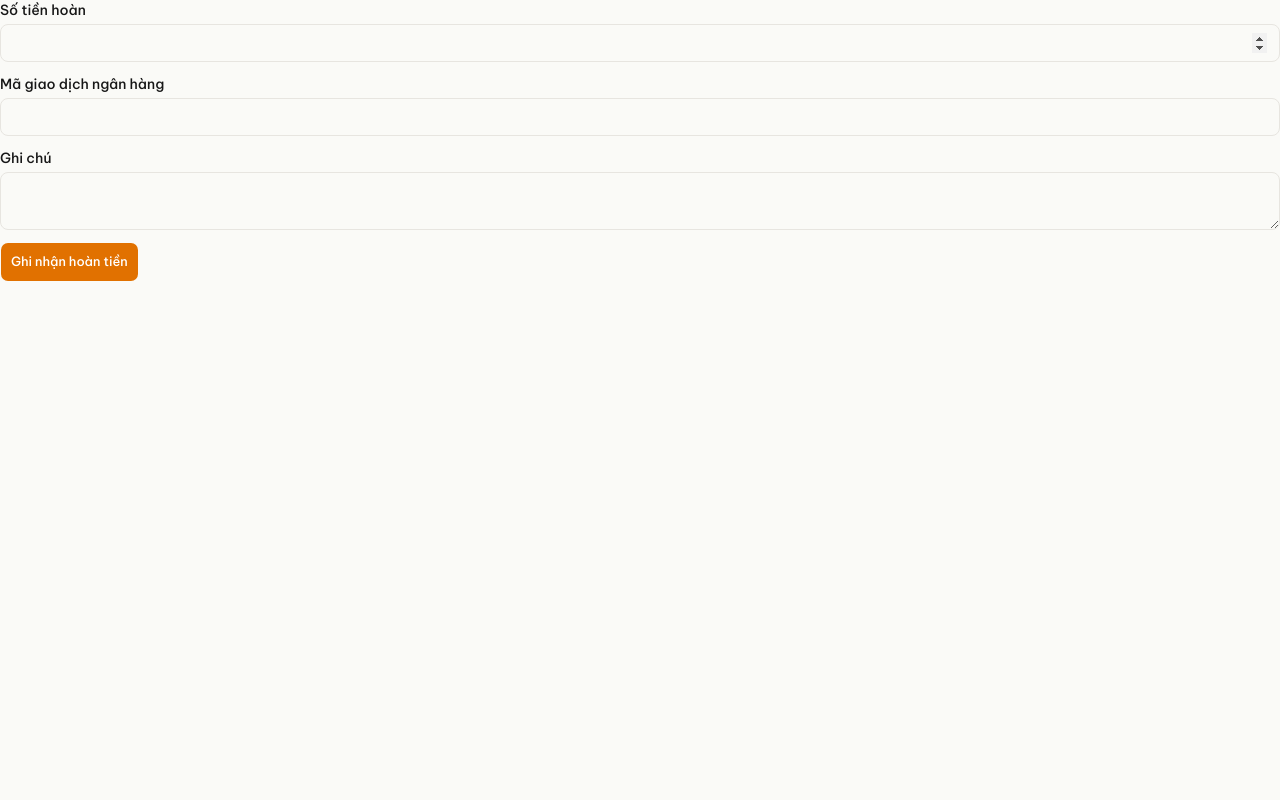
Test: RefundForm › does not expose rejected exception details
The width and height of the screenshot is (1280, 800).
Type "80000" into the number field labelled "Số tiền hoàn" at (640, 43), box [0,24,1279,62]
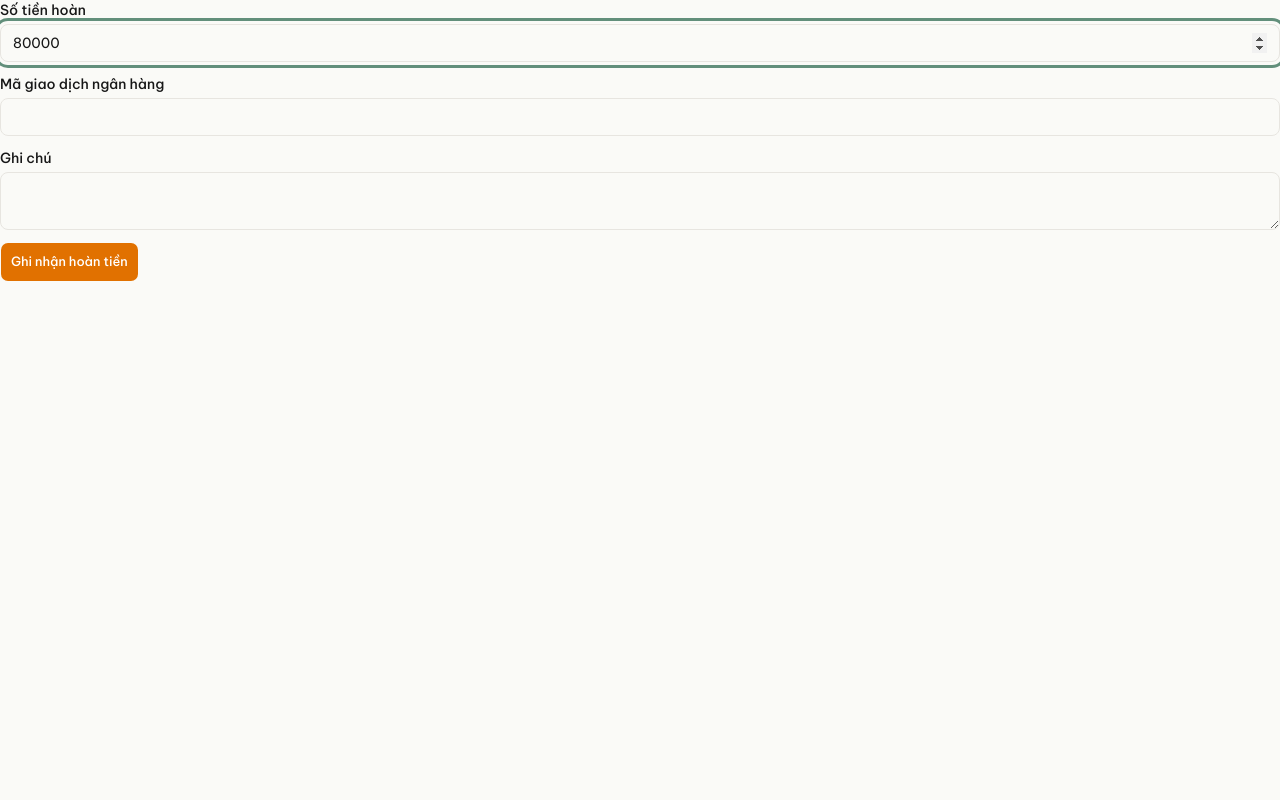
Click the button "Ghi nhận hoàn tiền" at (69, 262), box [0,242,139,282]
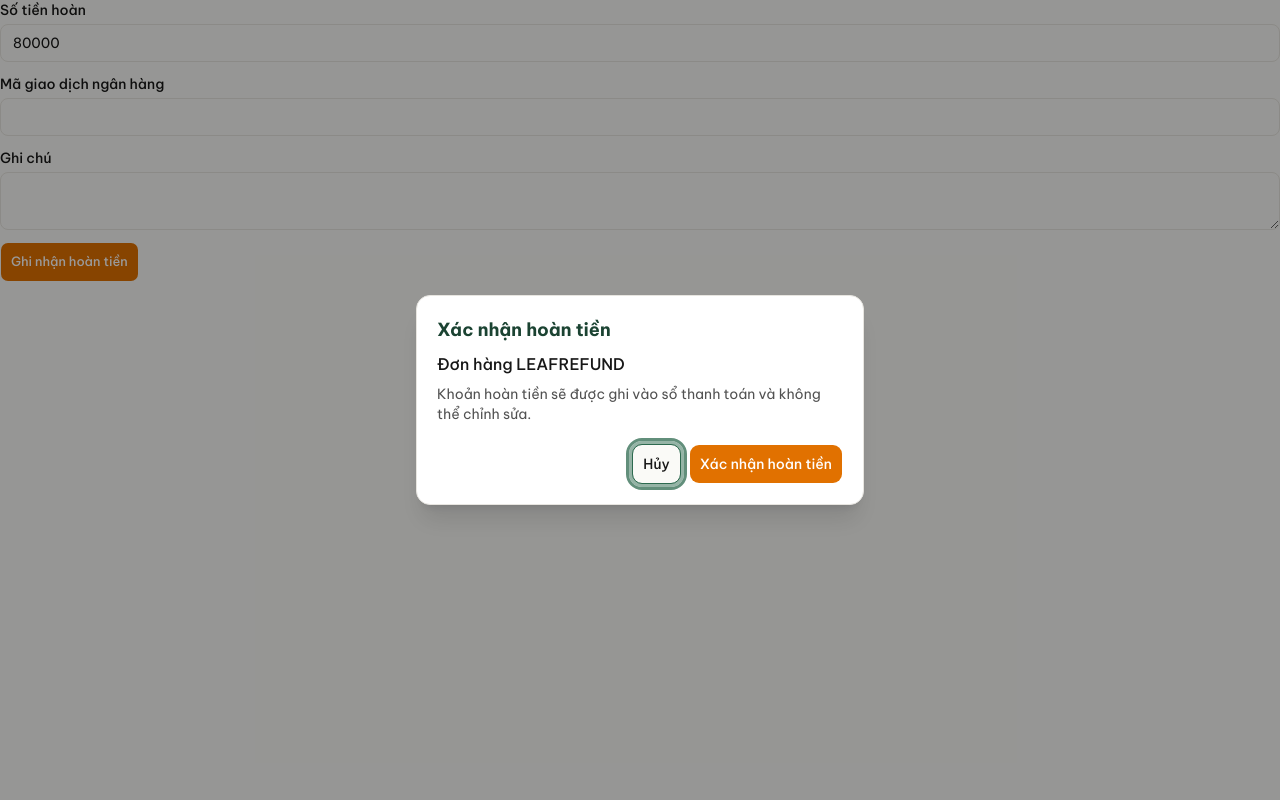
Click the button "Xác nhận hoàn tiền" at (766, 464), box [689,444,843,484]
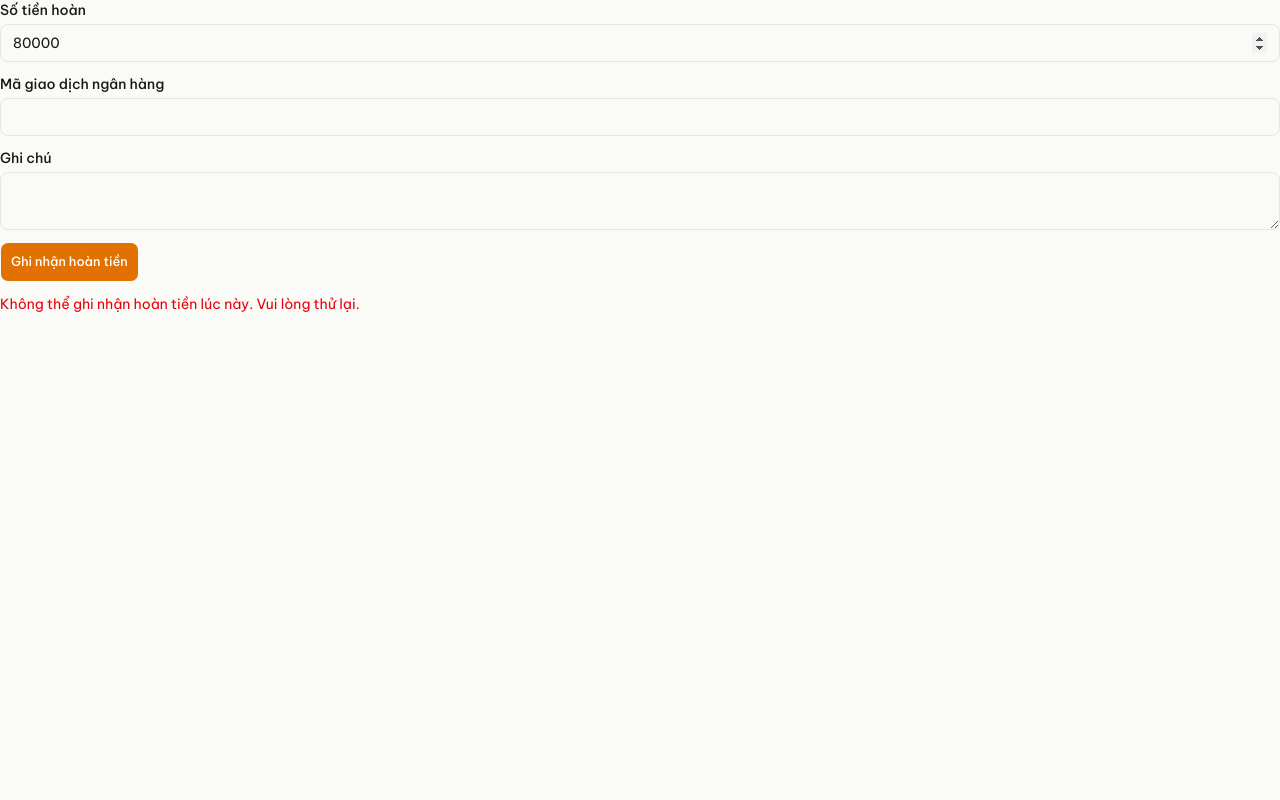
Expected: the message reads "Không thể ghi nhận hoàn tiền lúc này. Vui lòng thử lại.", [0,295,360,313]
